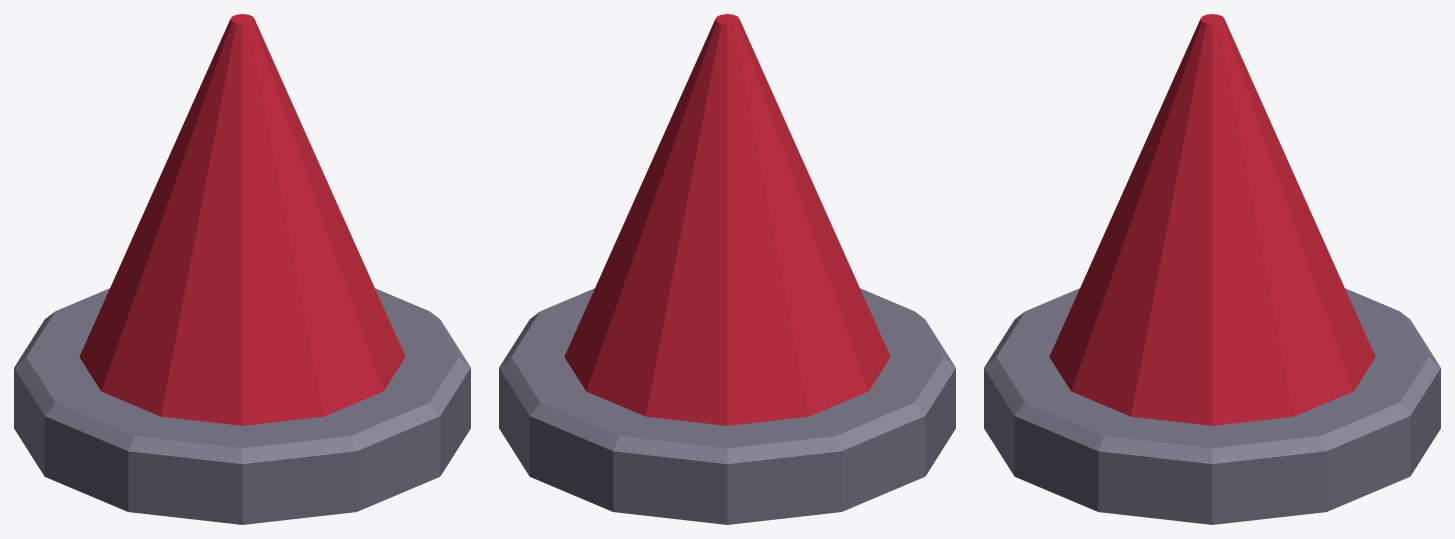
The model's file is Hurdle13.fbx.
The picture shows the model from 3 angles, left to right: view 1: azimuth 30°, elevation 25°; view 2: azimuth 150°, elevation 25°; view 3: azimuth 270°, elevation 25°; orthographic projection.
Visible parts, largest first — view 1: Hurdle13; view 2: Hurdle13; view 3: Hurdle13.
Part boxes in pixels (bbox=[...]): Hurdle13: bbox=[14, 14, 470, 524]; Hurdle13: bbox=[499, 14, 955, 524]; Hurdle13: bbox=[984, 14, 1440, 524].
Size of the model in its own units: 0.4681 by 0.4627 by 0.4681.
Materials: 1 (1 with a texture image).
